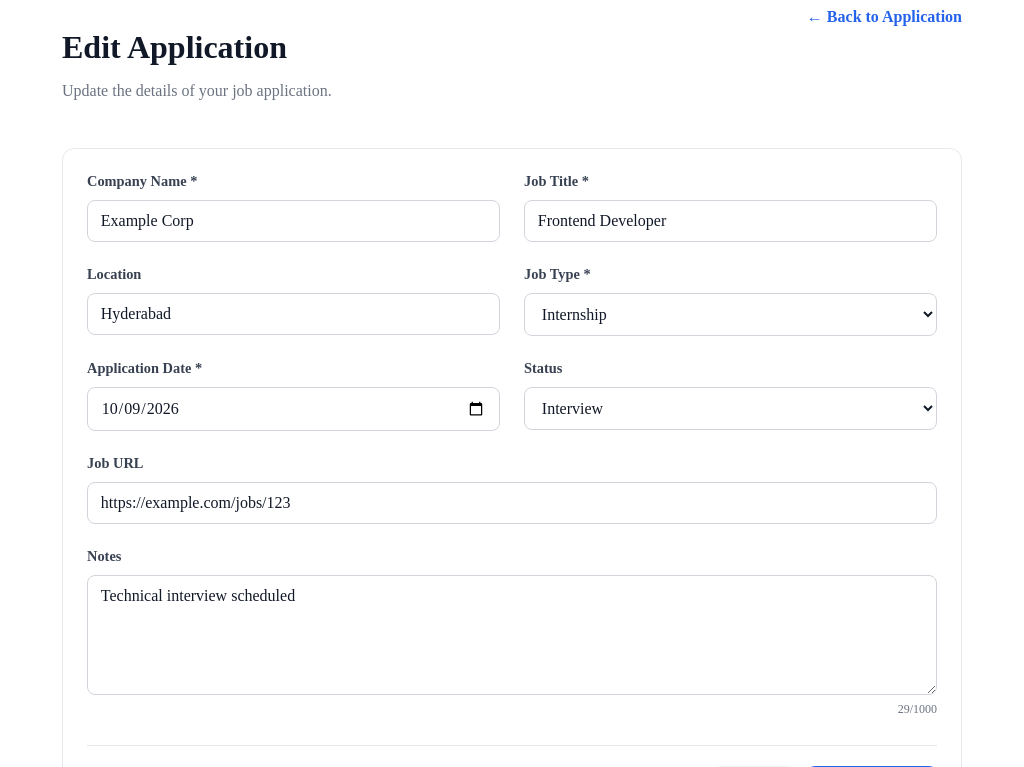
Test: EditApplication page › validates required fields before updating
Clear the field labelled "Company Name *" at (294,221), box [87,200,500,242]
(page scrolled)
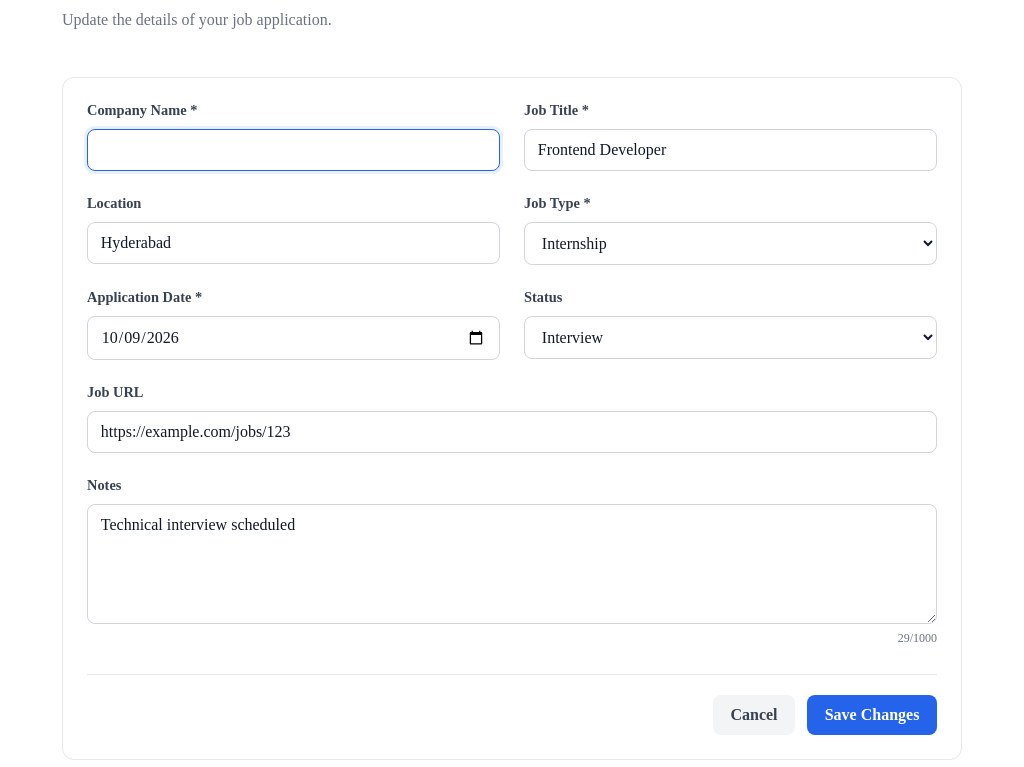
Click the button "Save Changes" at (872,715), box [807,695,937,736]
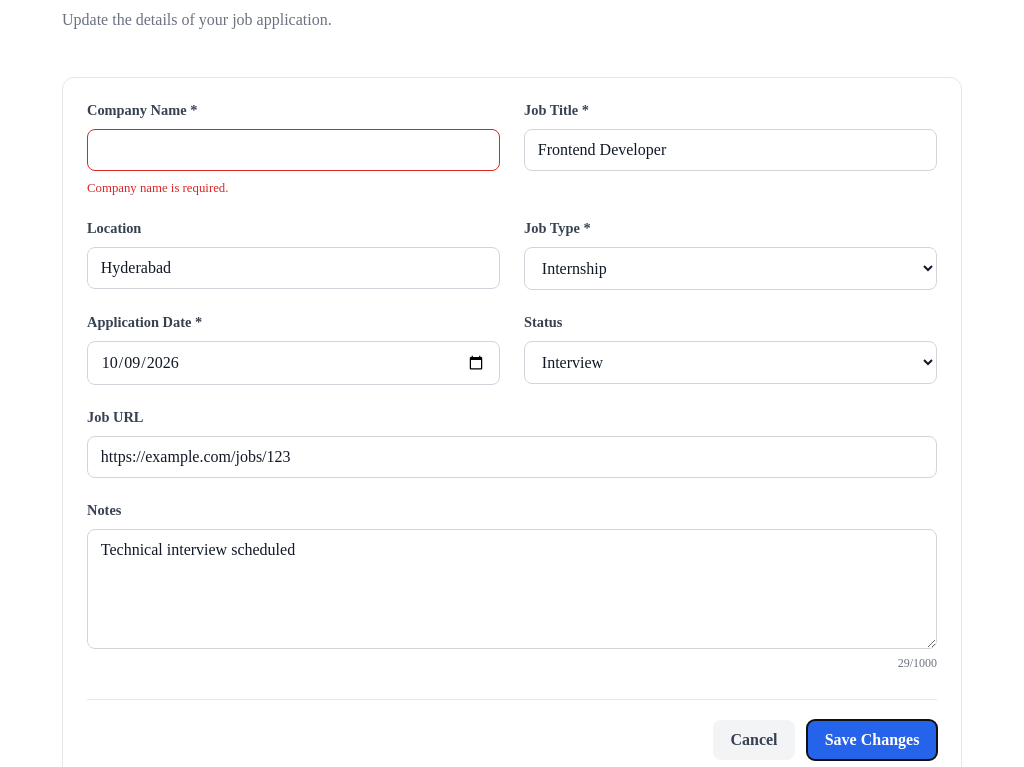
Expected: the text "Company name is required." is shown, [87,181,228,195]
